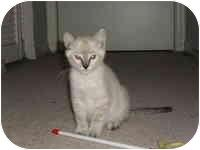siamese: (57, 25, 115, 80)
